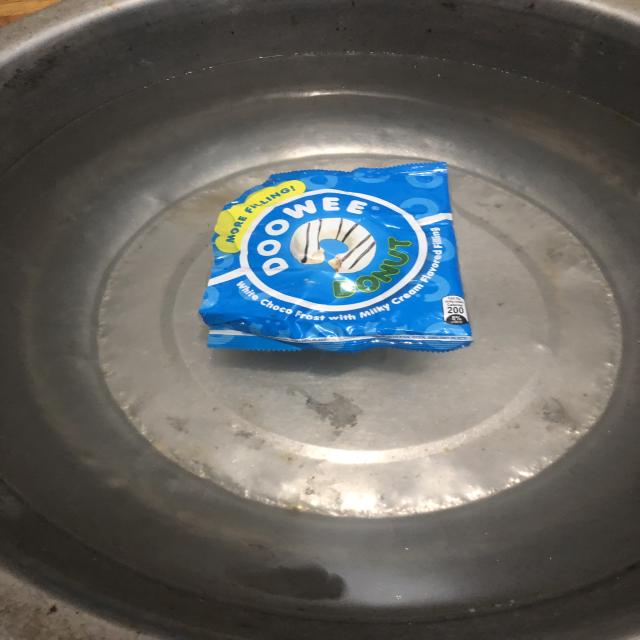Plastic Wrapper: (154, 148, 503, 394)
